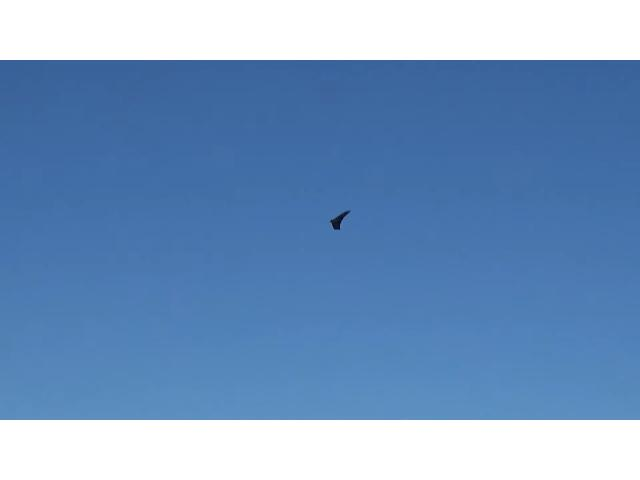Anti-Drone: (320, 203, 358, 235)
